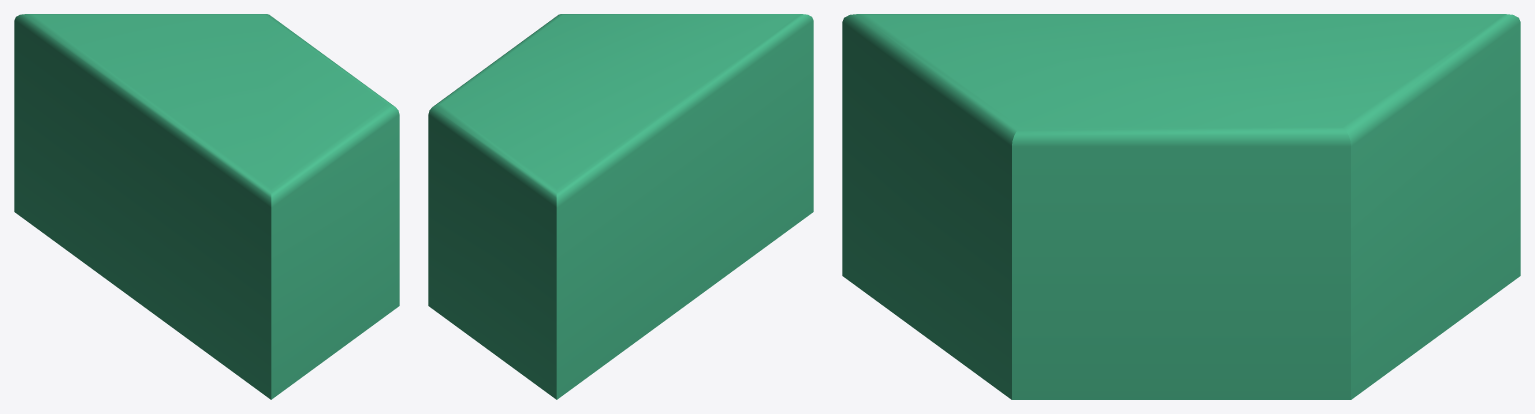
File: hex_forest_waterB_empty.glb
3 views of the same model, side by side, from view 1: azimuth 30°, elevation 25°; view 2: azimuth 150°, elevation 25°; view 3: azimuth 270°, elevation 25° (orthographic). The views are drawn at different scales.
Parts seen in each view (by area): view 1: hex_forest_waterB_empty; view 2: hex_forest_waterB_empty; view 3: hex_forest_waterB_empty.
Part boxes in pixels (<box>): hex_forest_waterB_empty: <box>14,14,399,399</box>; hex_forest_waterB_empty: <box>428,14,813,399</box>; hex_forest_waterB_empty: <box>842,14,1520,399</box>.
Size of the model in its own units: 1 by 1 by 2.31.
